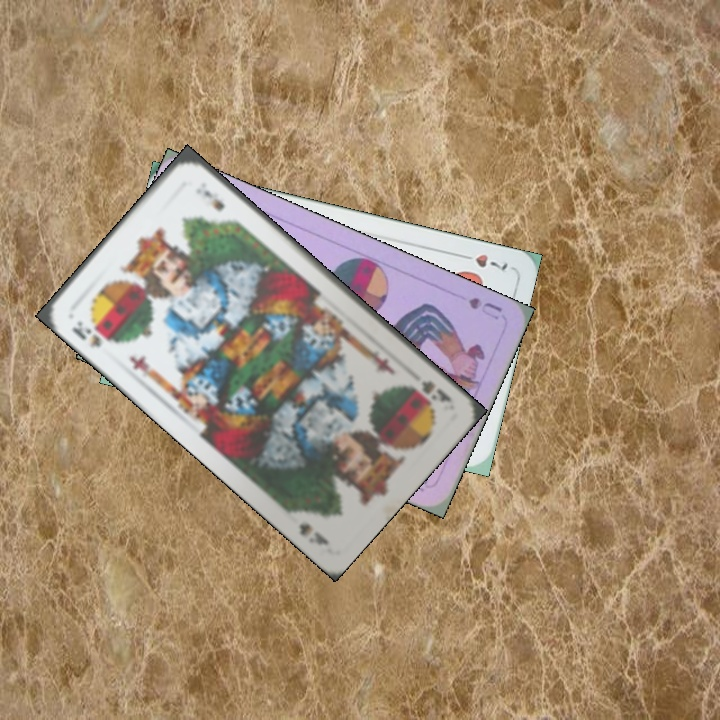H7: (454, 249, 511, 274)
SK: (405, 376, 455, 406), (68, 316, 104, 351)
SU: (464, 293, 505, 323)
